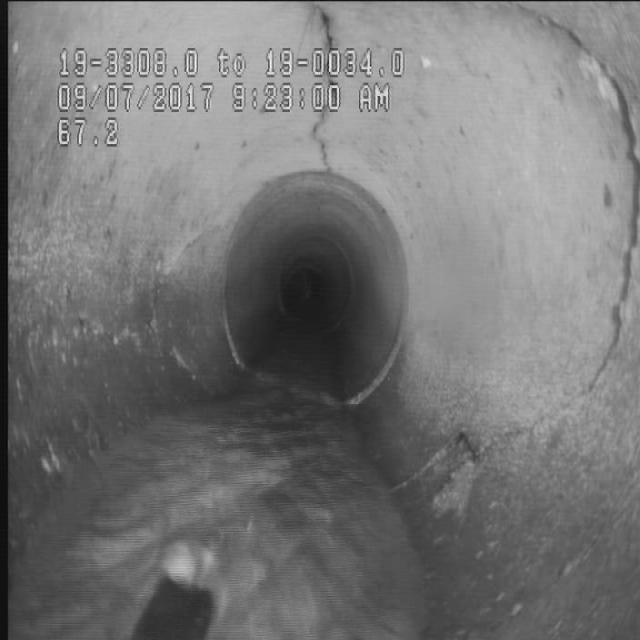Fracture: (518, 0, 639, 457), (296, 5, 354, 165)
